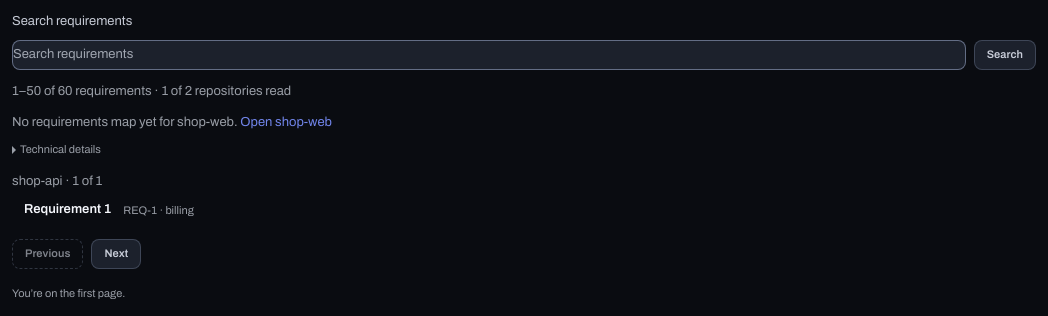
it: the requirements browser › a window past a shrunk corpus keeps Previous (codex on #157)
Expected: the element with test id "requirements-repo" is shown, [12, 174, 194, 216]
Click the button with test id "requirements-next": [116, 254] box [91, 239, 141, 269]
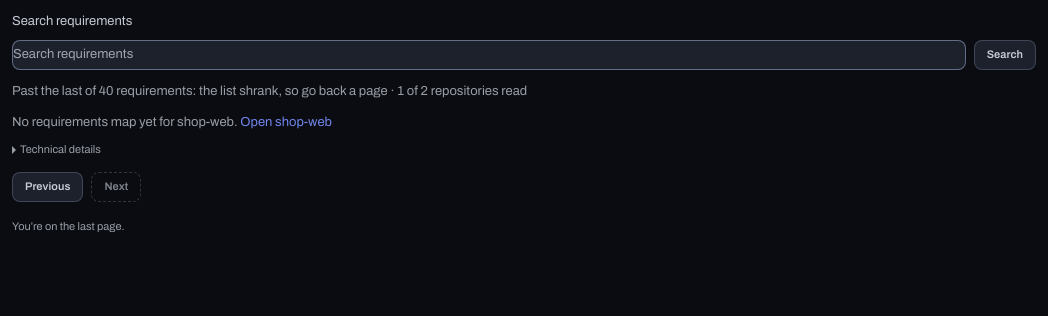
Expected: the text with test id "requirements-totals" shows "Past the last of 40 requirements: the list shrank, so go back a page", [12, 84, 527, 98]
Expected: the button with test id "requirements-prev" is enabled, [12, 172, 83, 202]
Expected: the button with test id "requirements-next" is disabled, [91, 172, 141, 202]
